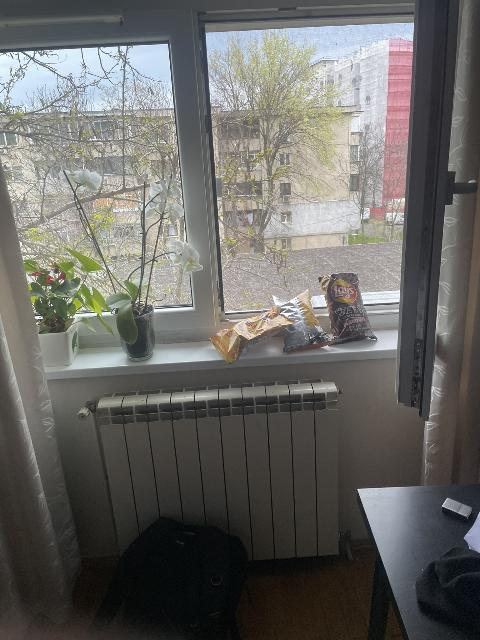Chio Cascaval 125g: (274, 292, 331, 353)
Chio Hula Hoops Cheese 70g: (210, 303, 284, 362)
Lays Beef Grilled Ribs 125g: (322, 272, 381, 346)
